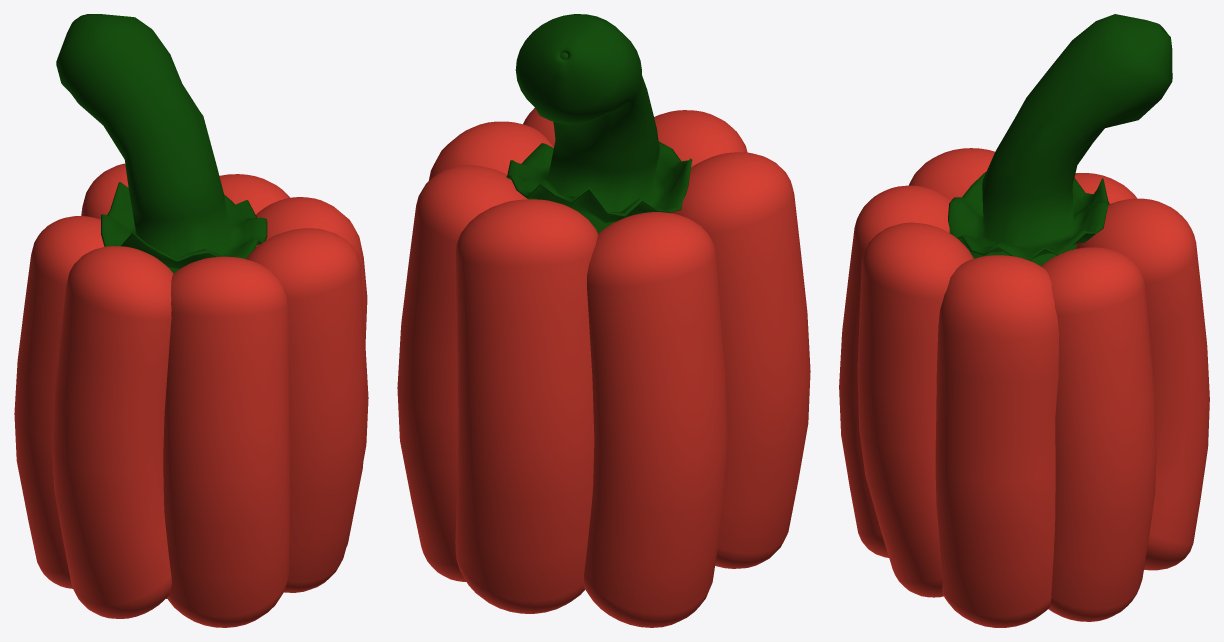
The model's file is bellpepper.fbx.
The picture shows the model from 3 angles, left to right: view 1: azimuth 30°, elevation 25°; view 2: azimuth 150°, elevation 25°; view 3: azimuth 270°, elevation 25°; orthographic projection. The views are drawn at different scales.
Visible parts, largest first — view 1: pepper.027, pepper.028, stem.003, pepper.026, pepper.022, pepper.025, pepper.024, pepper.023; view 2: pepper.023, pepper.022, pepper.028, stem.003, pepper.024, pepper.025, pepper.027; view 3: pepper.025, pepper.024, stem.003, pepper.026, pepper.023, pepper.027, pepper.028, pepper.022.
Boxes of the visible parts, x1=… form: pepper.027: x1=163, y1=256, x2=289, y2=627; pepper.028: x1=52, y1=246, x2=173, y2=618; stem.003: x1=56, y1=14, x2=267, y2=268; pepper.026: x1=246, y1=228, x2=366, y2=592; pepper.022: x1=14, y1=216, x2=104, y2=588; pepper.025: x1=256, y1=197, x2=368, y2=546; pepper.024: x1=219, y1=174, x2=289, y2=214; pepper.023: x1=81, y1=163, x2=128, y2=219; pepper.023: x1=455, y1=199, x2=597, y2=613; pepper.022: x1=584, y1=212, x2=728, y2=627; pepper.028: x1=668, y1=152, x2=810, y2=568; stem.003: x1=506, y1=14, x2=692, y2=223; pepper.024: x1=397, y1=165, x2=527, y2=581; pepper.025: x1=428, y1=121, x2=553, y2=180; pepper.027: x1=654, y1=110, x2=747, y2=167; pepper.025: x1=935, y1=255, x2=1059, y2=627; pepper.024: x1=1041, y1=247, x2=1156, y2=621; stem.003: x1=948, y1=14, x2=1172, y2=260; pepper.026: x1=857, y1=222, x2=973, y2=597; pepper.023: x1=1076, y1=198, x2=1209, y2=570; pepper.027: x1=839, y1=185, x2=951, y2=557; pepper.028: x1=908, y1=148, x2=994, y2=199; pepper.022: x1=1074, y1=173, x2=1137, y2=203.
Bounding box in the file's own units: 0.2737 × 0.4517 × 0.2803.
